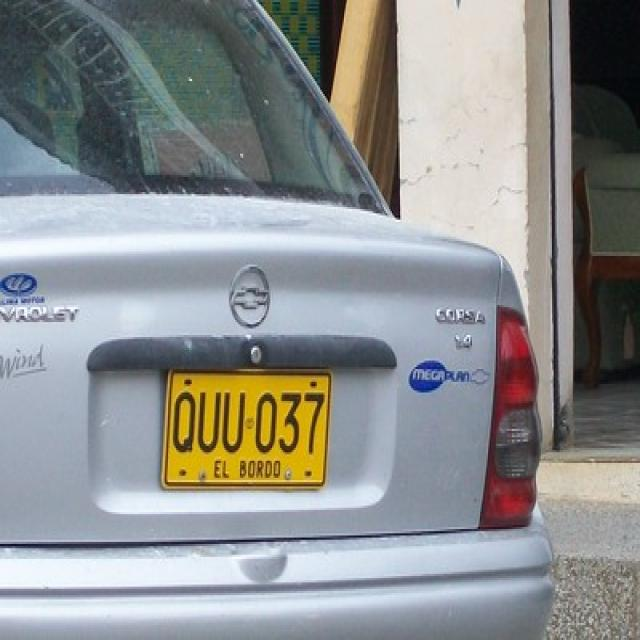placa_carro: (163, 363, 338, 489)
